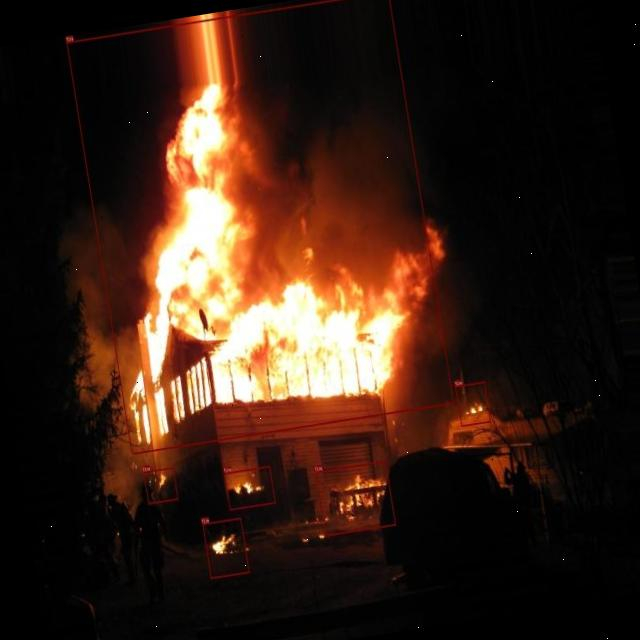fire: (66, 0, 453, 455), (316, 460, 396, 536), (202, 518, 250, 579), (224, 466, 276, 510), (455, 381, 491, 426), (144, 467, 178, 504)
